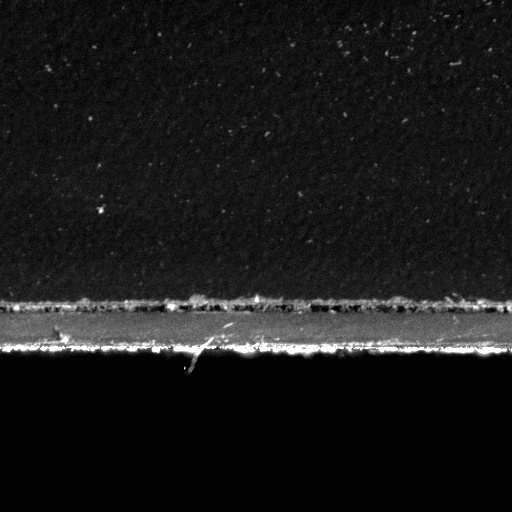jiaofeng: (312, 299, 500, 316), (129, 300, 298, 316)
